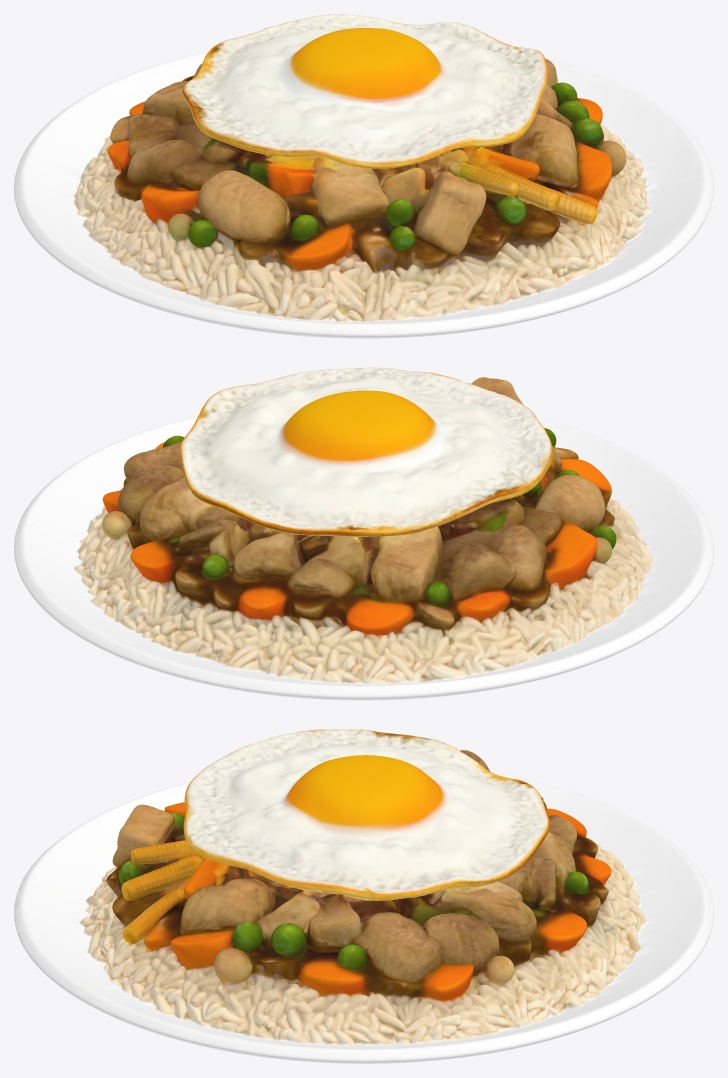
File: Bol Renversé.glb
3 views of the same model, one above another, from view 1: azimuth 30°, elevation 25°; view 2: azimuth 150°, elevation 25°; view 3: azimuth 270°, elevation 25° (orthographic).
Visible parts, largest first — view 1: Mesh_0.002; view 2: Mesh_0.002; view 3: Mesh_0.002.
Boxes of the visible parts, <box> form: Mesh_0.002: <box>14,14,713,338</box>; Mesh_0.002: <box>14,367,713,700</box>; Mesh_0.002: <box>14,729,713,1063</box>.
Bounding box in the file's own units: 0.12 × 0.04 × 0.12.
Materials: 1 (1 with a texture image).
